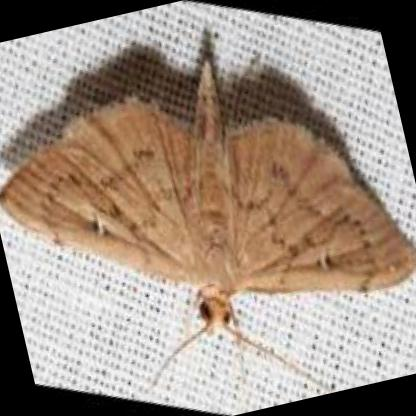Leaf Webber: (0, 58, 416, 329)
